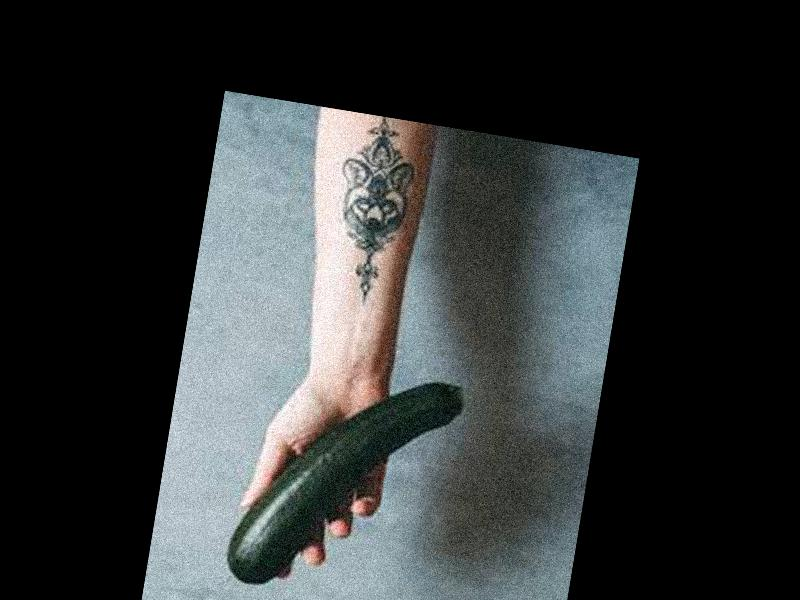Cucumber: (224, 354, 465, 600)
